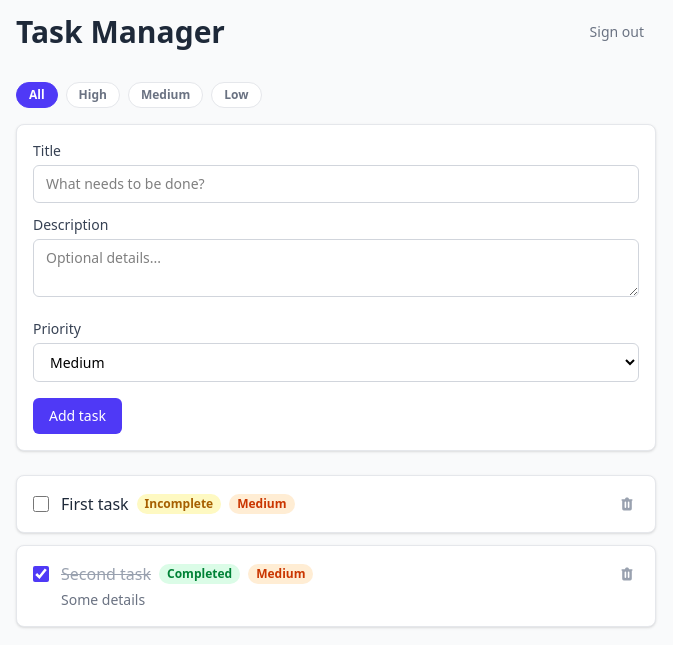
it: App › redirects to /login after signing out
Expected: the text "First task" is shown, [61,492,129,516]
Click the button "Sign out": (617, 32) [578,16,656,48]
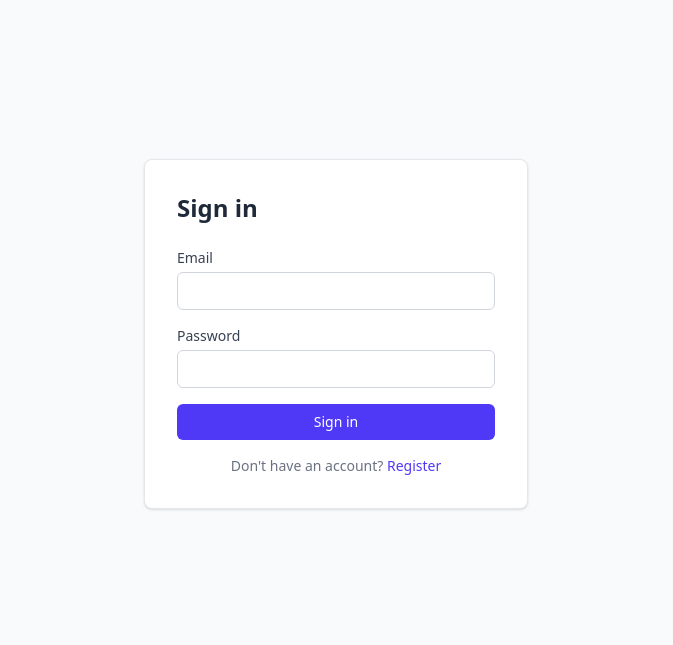
Expected: the button "Sign in" is shown, [177,404,495,440]
